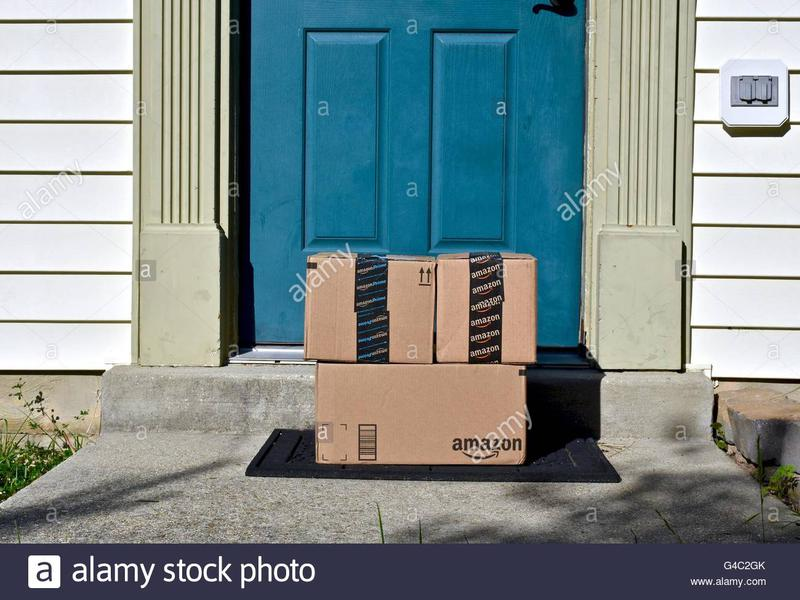package: (308, 362, 531, 471), (297, 247, 438, 367), (434, 248, 540, 368)
